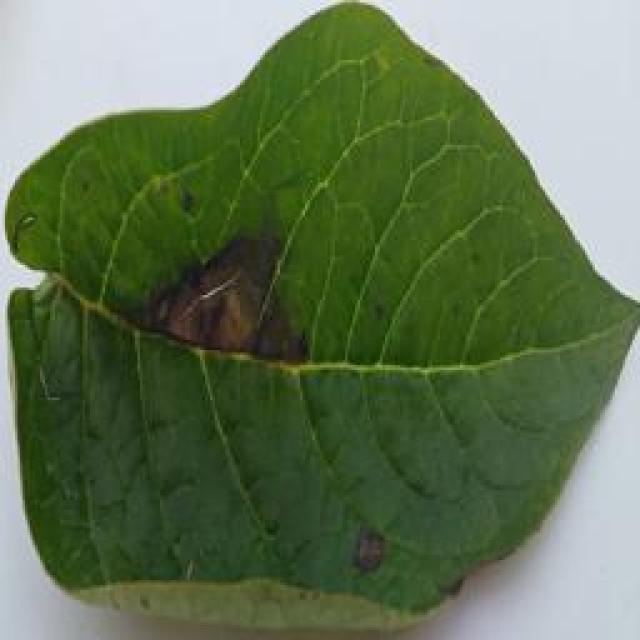Potato_Late_Blight: (6, 4, 628, 631)
